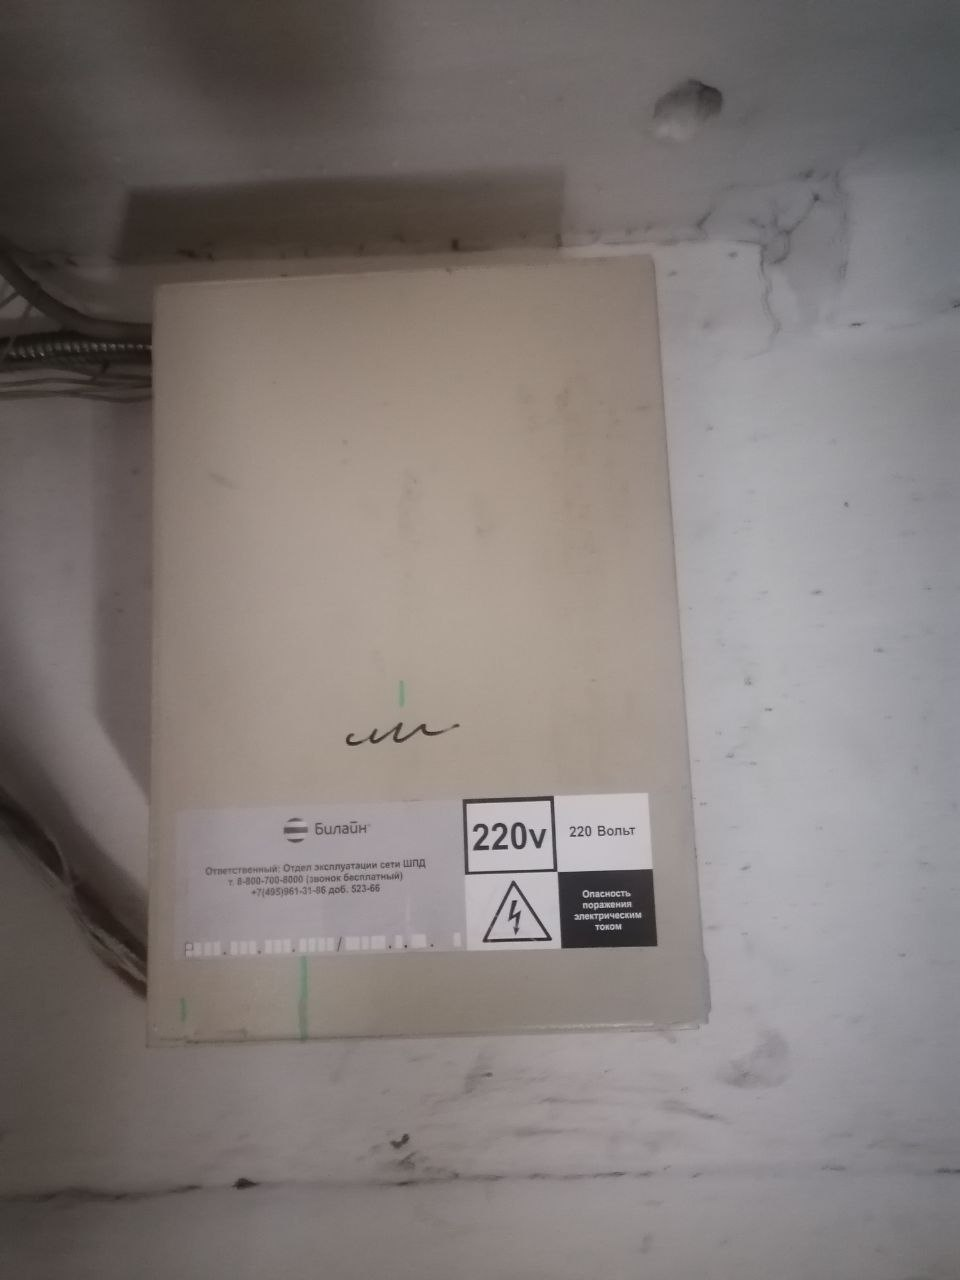sv-5: (130, 243, 720, 1060)
